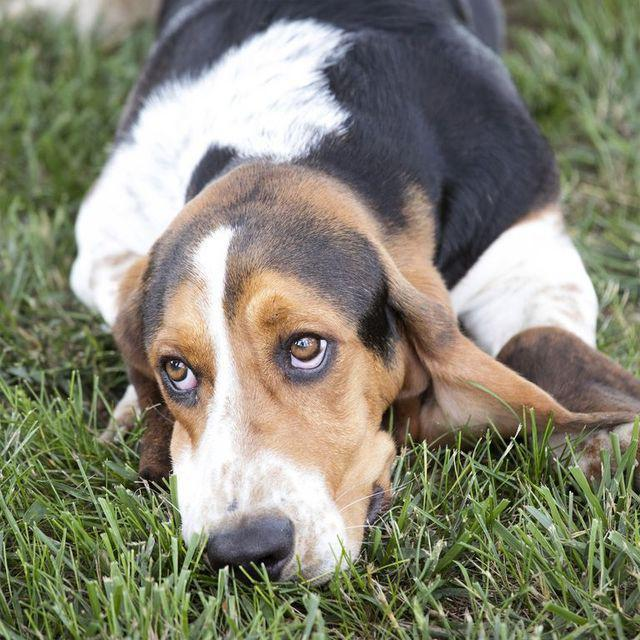Dog: (2, 6, 638, 636)
